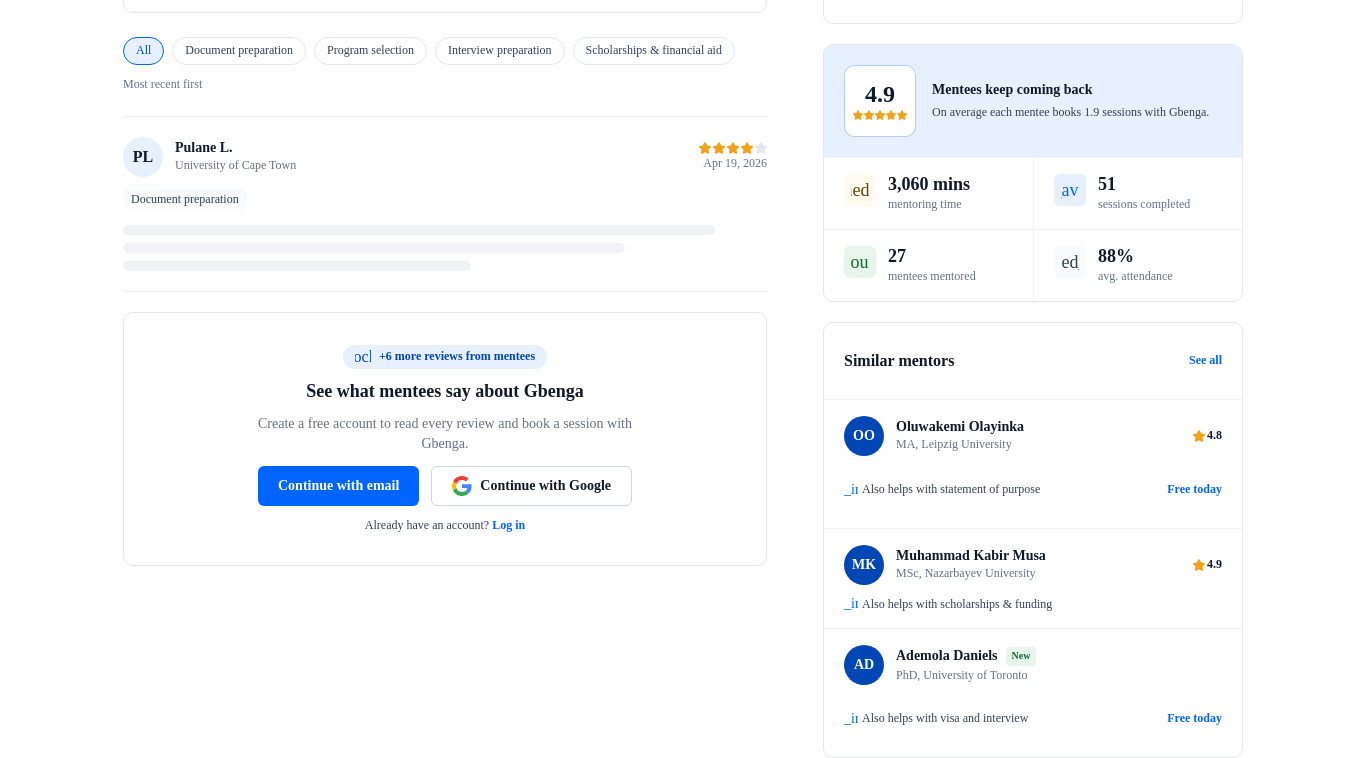
Test case: MentorProfileScreen — Reviews tab › a Google sign-in that fails to start says so in the gate, and can be tried again
(page scrolled)
Click the button "Continue with Google" at (532,486), box x1=431 y1=466 x2=632 y2=506
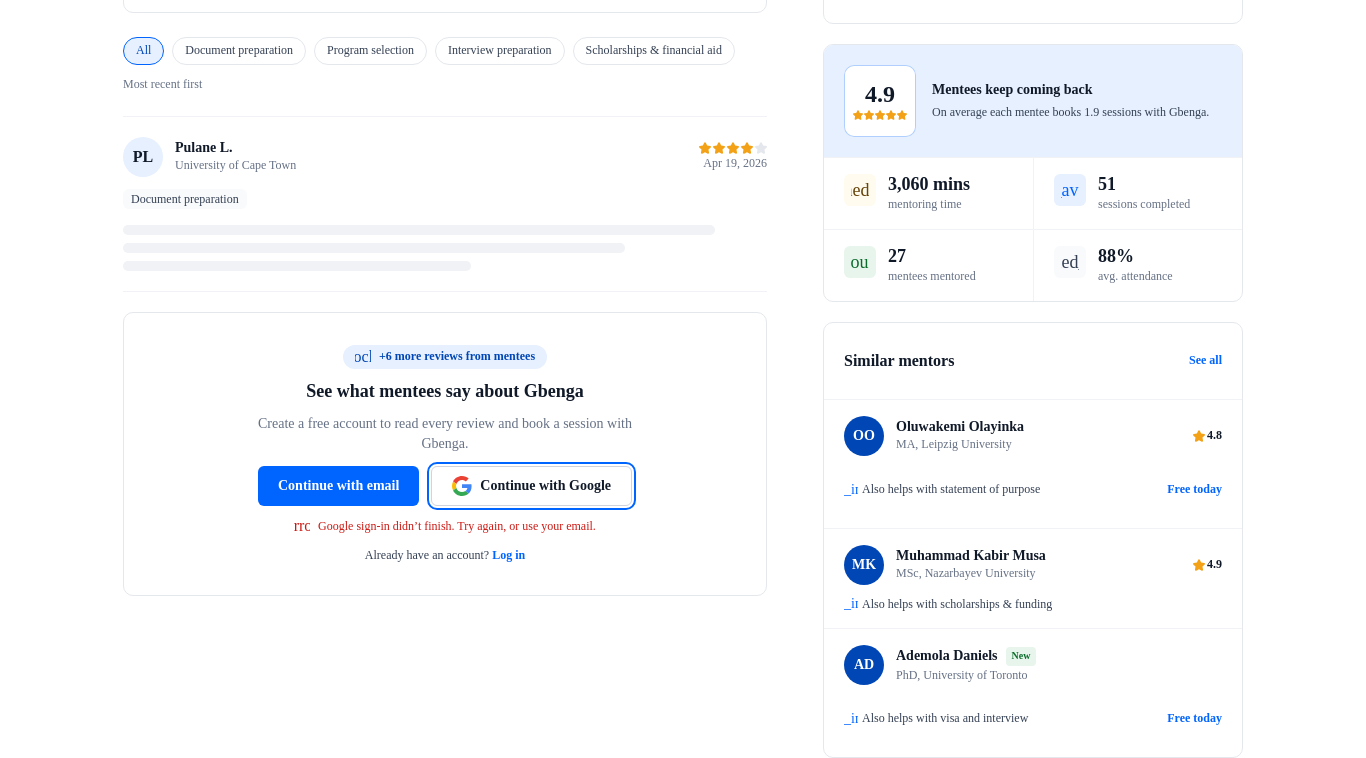
Now the message shows "Google sign-in didn’t finish. Try again, or use your email.", box x1=318 y1=519 x2=596 y2=533
